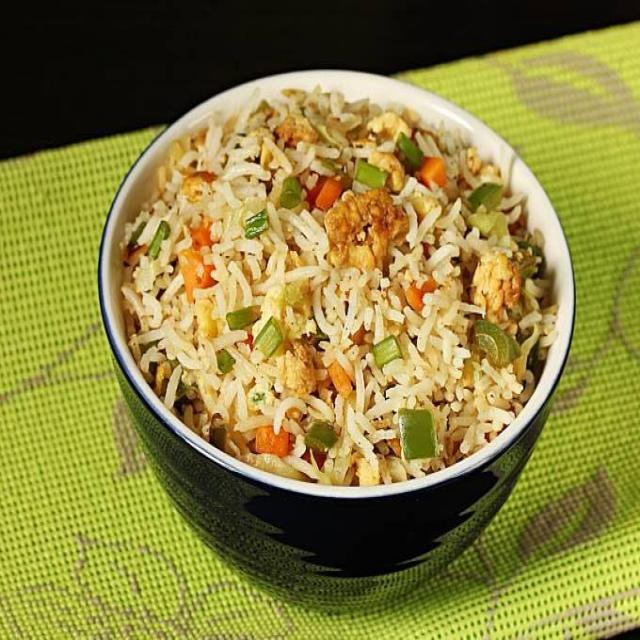Nasi Goreng: (118, 83, 557, 487)
